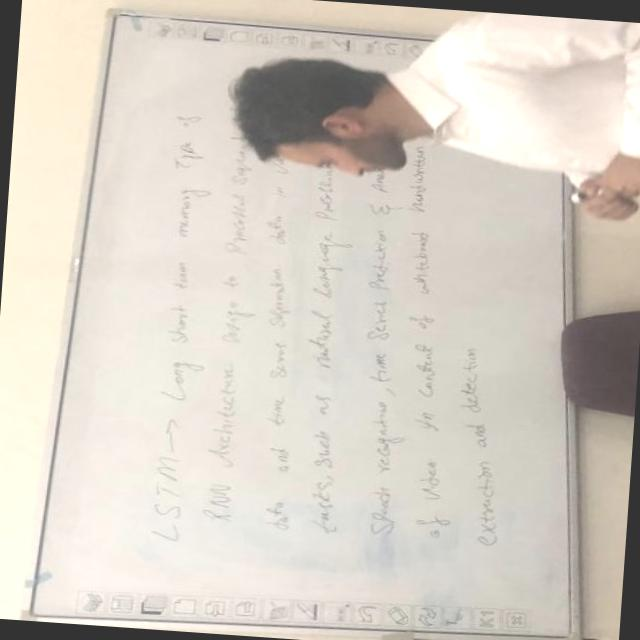Instructor: (226, 17, 640, 238)
White-board: (26, 12, 573, 639)
